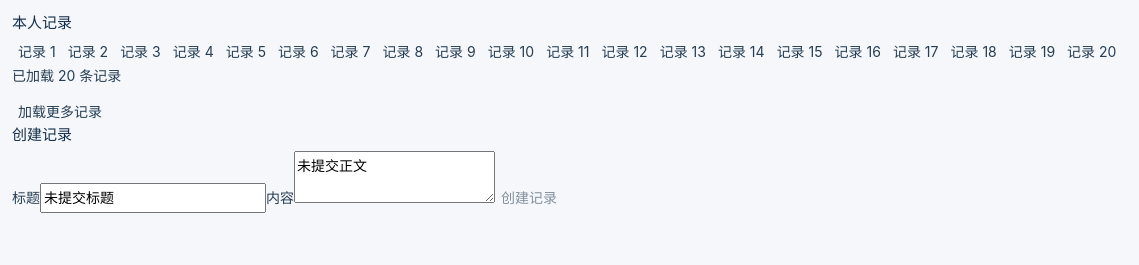
Test case: native workflow template directory › shows a page failure and supports an explicit retry without losing loaded records
Click the button "加载更多记录" at {"x": 60, "y": 112}, box [12,99,108,124]
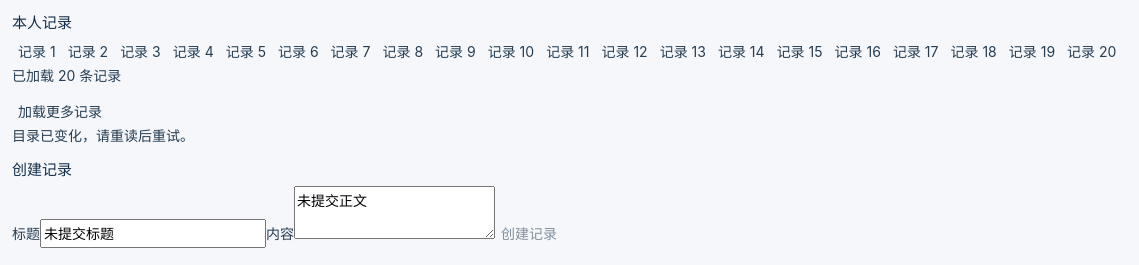
Check: the button "记录 20" is shown, box [1061,39,1122,64]
Check: the message reads "目录已变化，请重读后重试。", box [12,127,194,144]
Click the button "加载更多记录" at {"x": 60, "y": 112}, box [12,99,108,124]
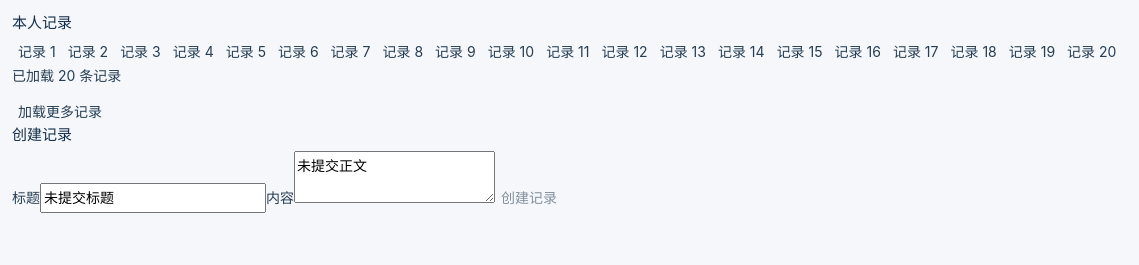
Check: the message "目录已变化，请重读后重试。" is gone
